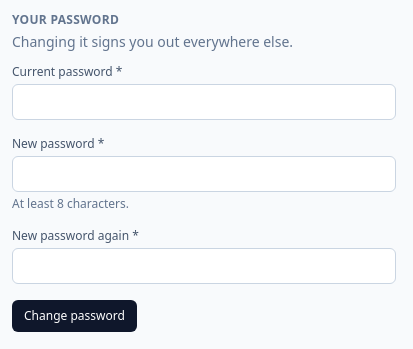
Password settings › changes the password, and the session goes on
Type "old password" into the password field labelled "Current password *" at (204, 102), box [12, 84, 396, 120]
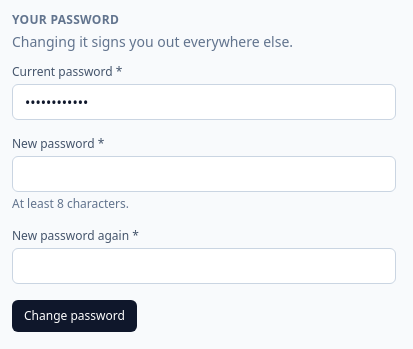
Type "a new password" into the password field named "New password (" at (204, 174), box [12, 156, 396, 192]
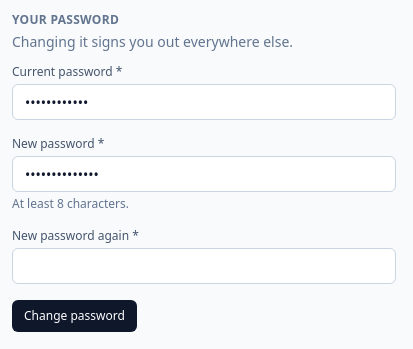
Type "a new password" into the password field labelled "New password again *" at (204, 266), box [12, 248, 396, 284]
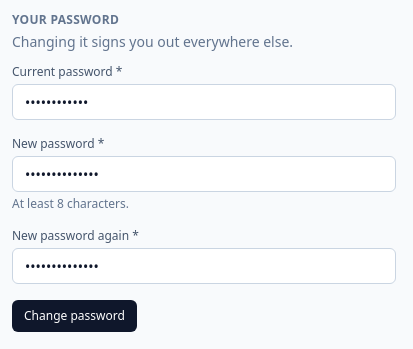
Click the button "Change password" at (74, 316), box [12, 300, 137, 332]
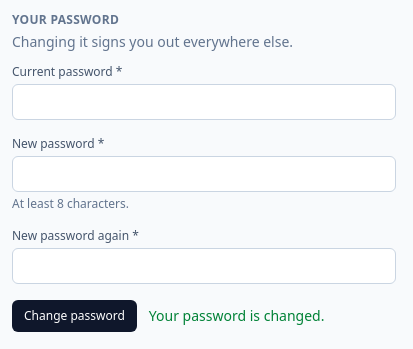
Check: the text "Your password is changed." is shown, box [149, 306, 324, 326]
Check: the password field labelled "Current password *" is empty, box [12, 84, 396, 120]
